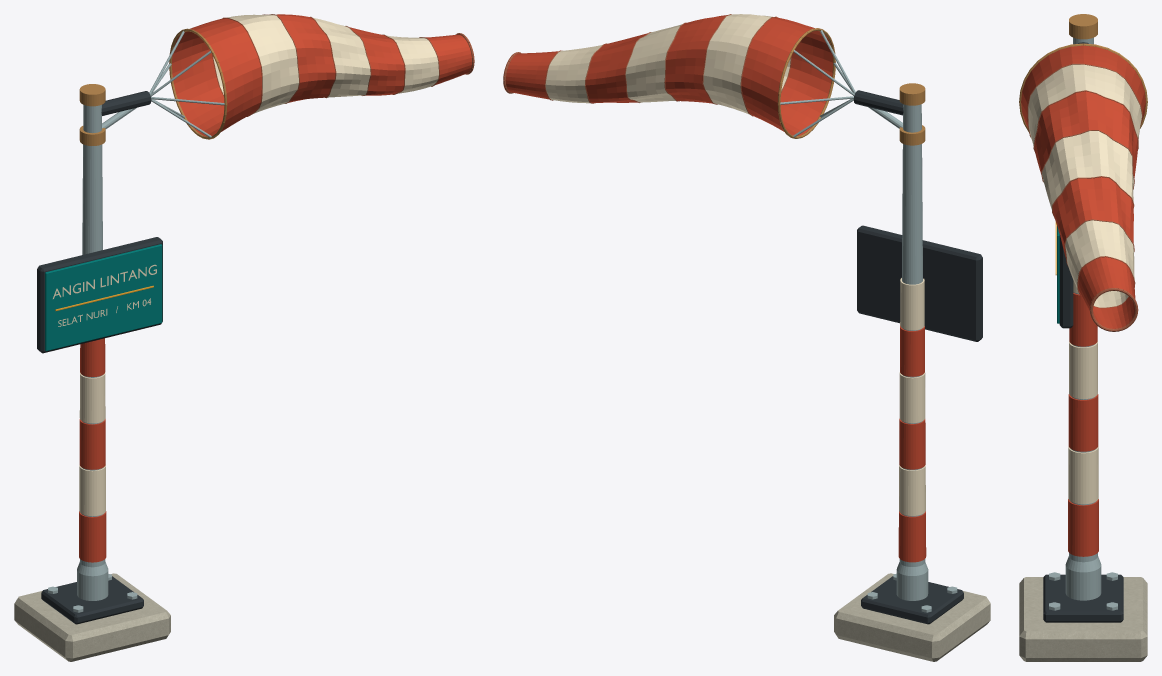
3 renders of one model, left to right at view 1: azimuth 30°, elevation 25°; view 2: azimuth 150°, elevation 25°; view 3: azimuth 270°, elevation 25°, orthographic. The views are drawn at different scales.
Parts seen in each view (by area): view 1: Ripstop cone, Enamel face, Cast foundation, Daymark bands, Tapered mast, Bolted shoe, Information plate, Rolled hems, Bridle wires, Traverse bearings, Station type, Swivel arm; view 2: Ripstop cone, Information plate, Daymark bands, Cast foundation, Tapered mast, Bolted shoe, Rolled hems, Bridle wires, Traverse bearings, Swivel arm; view 3: Ripstop cone, Daymark bands, Cast foundation, Bolted shoe, Rolled hems, Tapered mast, Information plate, Traverse bearings, Anchor nuts, Enamel face.
Part boxes in pixels (x1,y1,x2,y2): Ripstop cone: (172, 14, 471, 136); Enamel face: (45, 244, 162, 351); Cast foundation: (14, 573, 170, 661); Daymark bands: (79, 338, 106, 562); Tapered mast: (77, 105, 108, 600); Bolted shoe: (41, 576, 143, 624); Information plate: (37, 237, 162, 353); Rolled hems: (169, 14, 474, 139); Bridle wires: (149, 30, 224, 137); Traverse bearings: (79, 84, 105, 145); Station type: (53, 264, 156, 326); Swivel arm: (101, 91, 151, 115); Ripstop cone: (505, 14, 833, 135); Information plate: (857, 225, 982, 341); Daymark bands: (898, 278, 926, 562); Cast foundation: (834, 573, 990, 661); Tapered mast: (896, 104, 928, 600); Bolted shoe: (861, 576, 963, 624); Rolled hems: (503, 14, 835, 138); Bridle wires: (780, 30, 855, 137); Traverse bearings: (899, 83, 925, 145); Swivel arm: (853, 90, 903, 115); Ripstop cone: (1021, 45, 1145, 328); Daymark bands: (1068, 280, 1098, 556); Cast foundation: (1019, 577, 1147, 661); Bolted shoe: (1043, 574, 1123, 622); Rolled hems: (1019, 43, 1147, 331); Tapered mast: (1065, 37, 1101, 600); Information plate: (1059, 234, 1073, 328); Traverse bearings: (1069, 14, 1097, 39); Anchor nuts: (1049, 572, 1117, 610); Enamel face: (1057, 226, 1059, 323).
Bounding box in the file's own units: 3.64 × 4.47 × 0.8019.
Materials: 9 (1 with a texture image).
